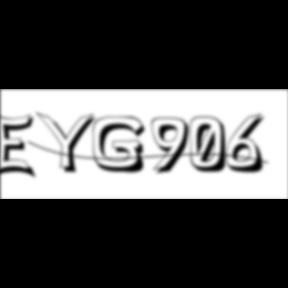0: (190, 115, 234, 174)
6: (226, 112, 272, 176)
9: (152, 117, 196, 177)
E: (0, 110, 40, 182)
G: (92, 116, 152, 176)
Y: (36, 110, 102, 176)
